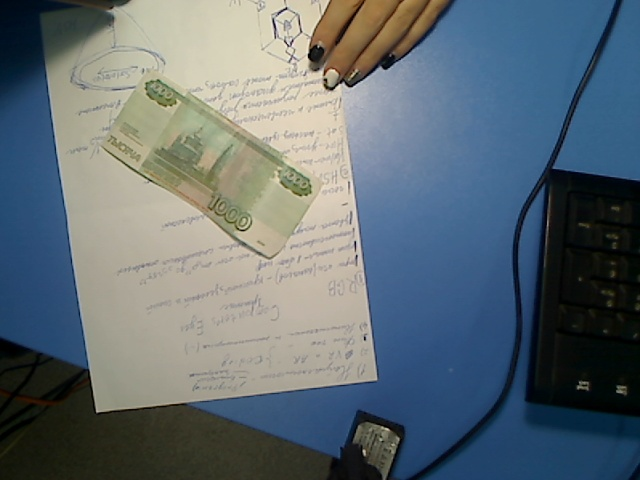banknotes: (102, 70, 325, 259)
